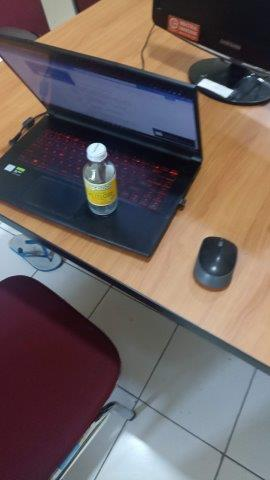botolkaca: (80, 142, 120, 216)
